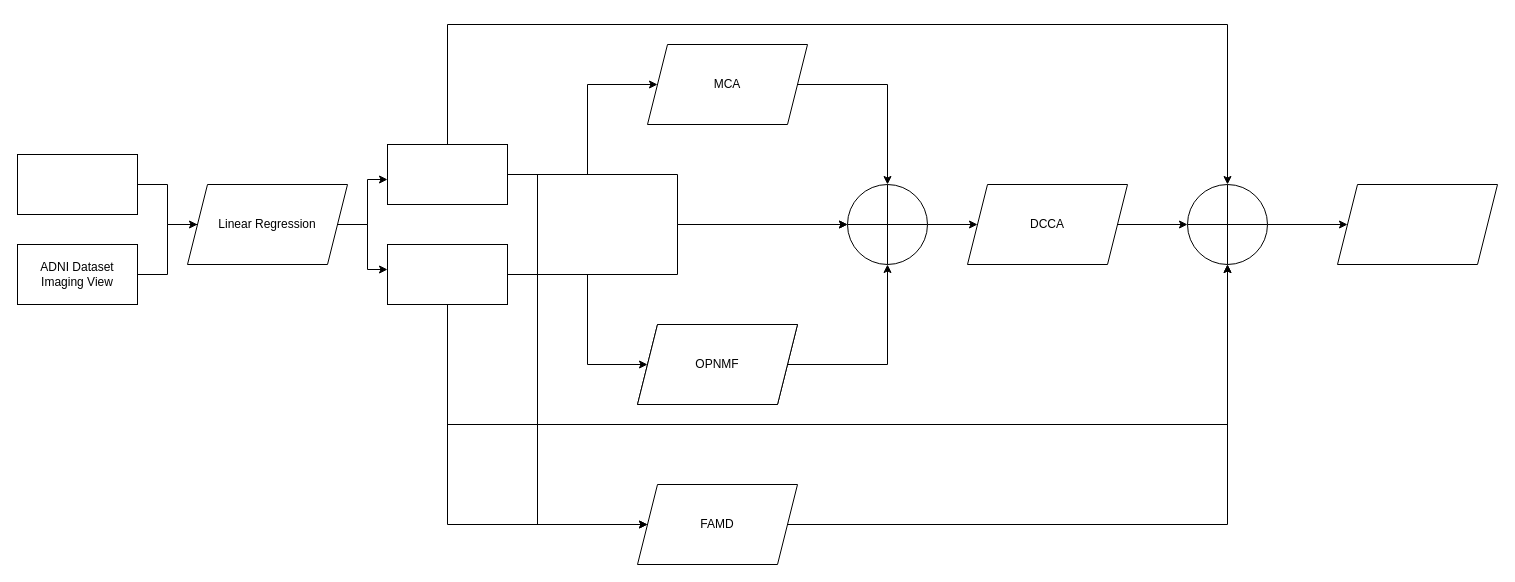
Some shapes in this 1515 by 582 pixel diagram are drawn without their labels. The centre of each missing label's shape, as x and y in pixels:
"ADNI Dataset Genetic View" belongs at point 77,184.
"Classification" belongs at point 1417,224.
"LR transformed Genetic View" belongs at point 447,174.
"LR transformed Imaging View" belongs at point 447,274.
